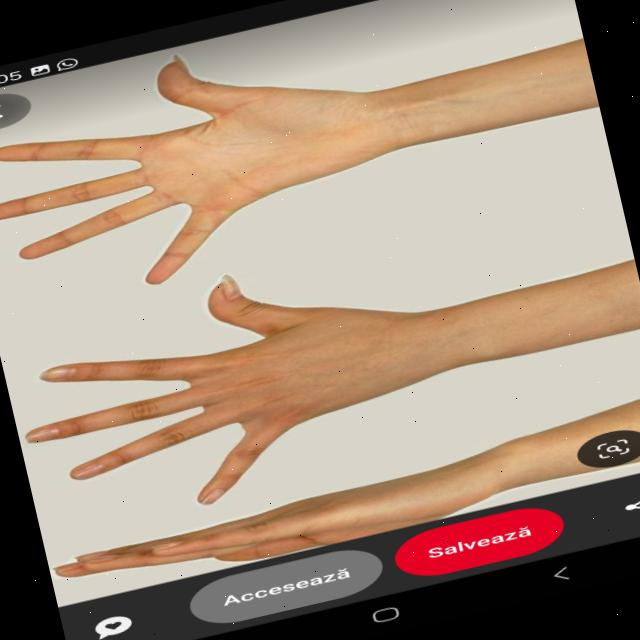hands: (0, 223, 510, 548), (0, 0, 502, 328), (44, 402, 640, 609)
